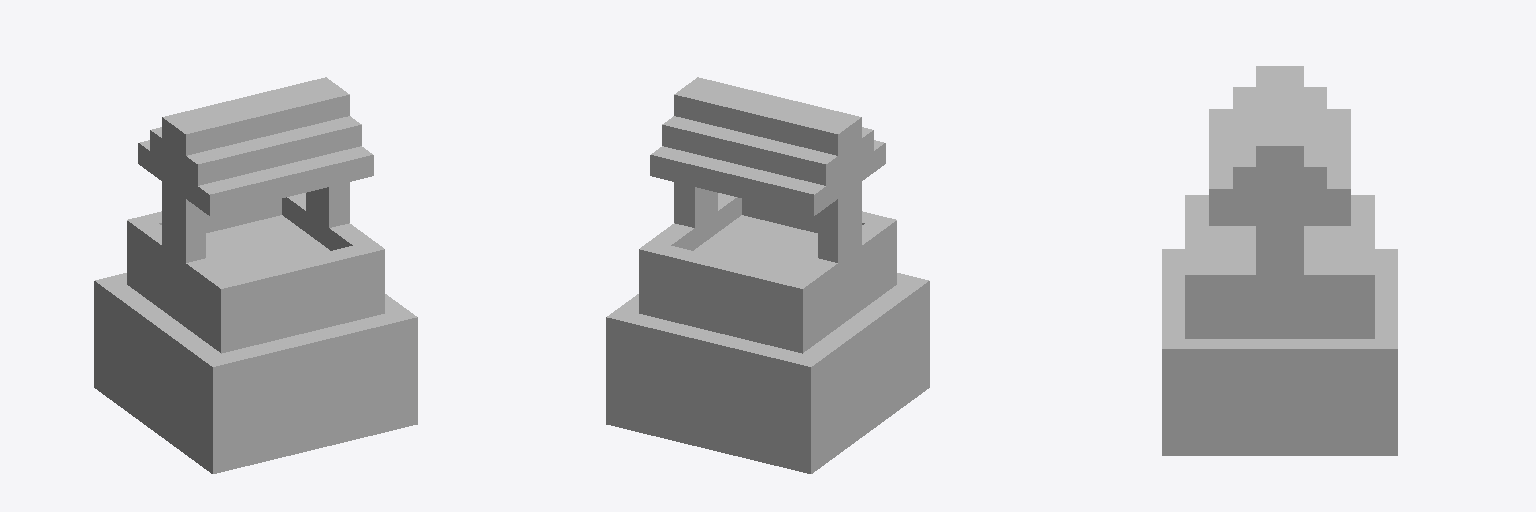
The model's file is water.obj.
3 views of the same model, side by side, from view 1: azimuth 30°, elevation 25°; view 2: azimuth 150°, elevation 25°; view 3: azimuth 270°, elevation 25° (orthographic).
Parts seen in each view (by area): view 1: object 1; view 2: object 1; view 3: object 1.
Part boxes in pixels (x1,y1,x2,y2): object 1: (94, 77, 417, 473); object 1: (606, 77, 929, 473); object 1: (1162, 66, 1397, 455).
Bounding box in the file's own units: 1 × 1.4 × 1.